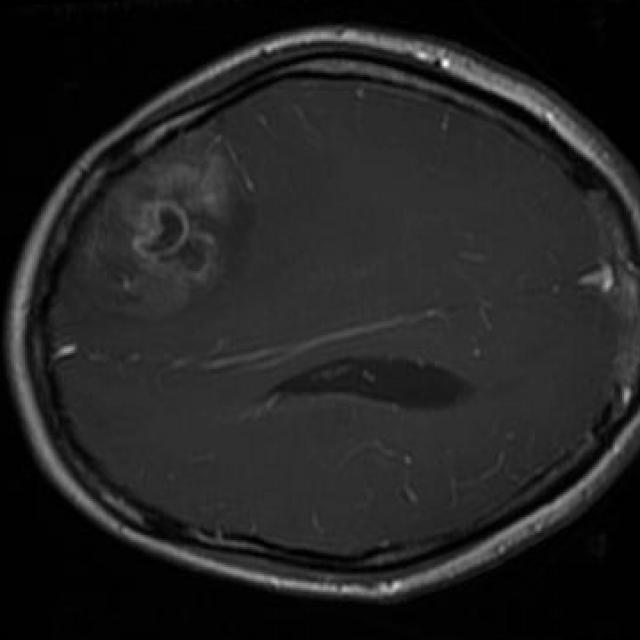glioma: (59, 135, 255, 321)
